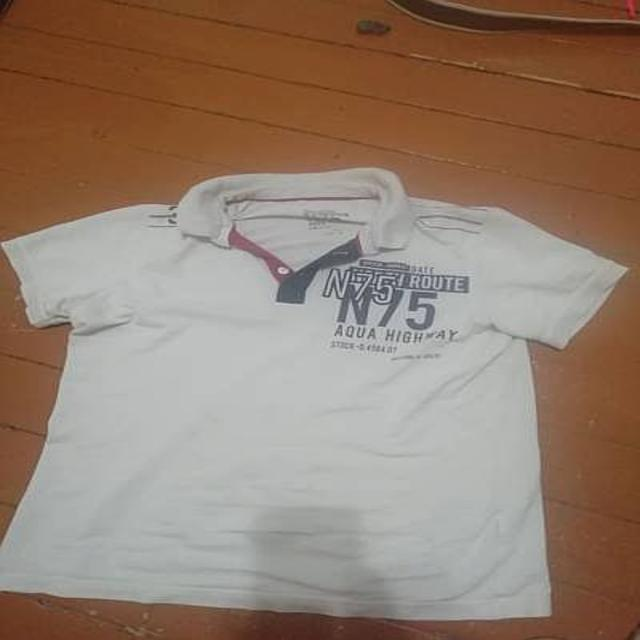T_SHIRT: (0, 157, 640, 627)
